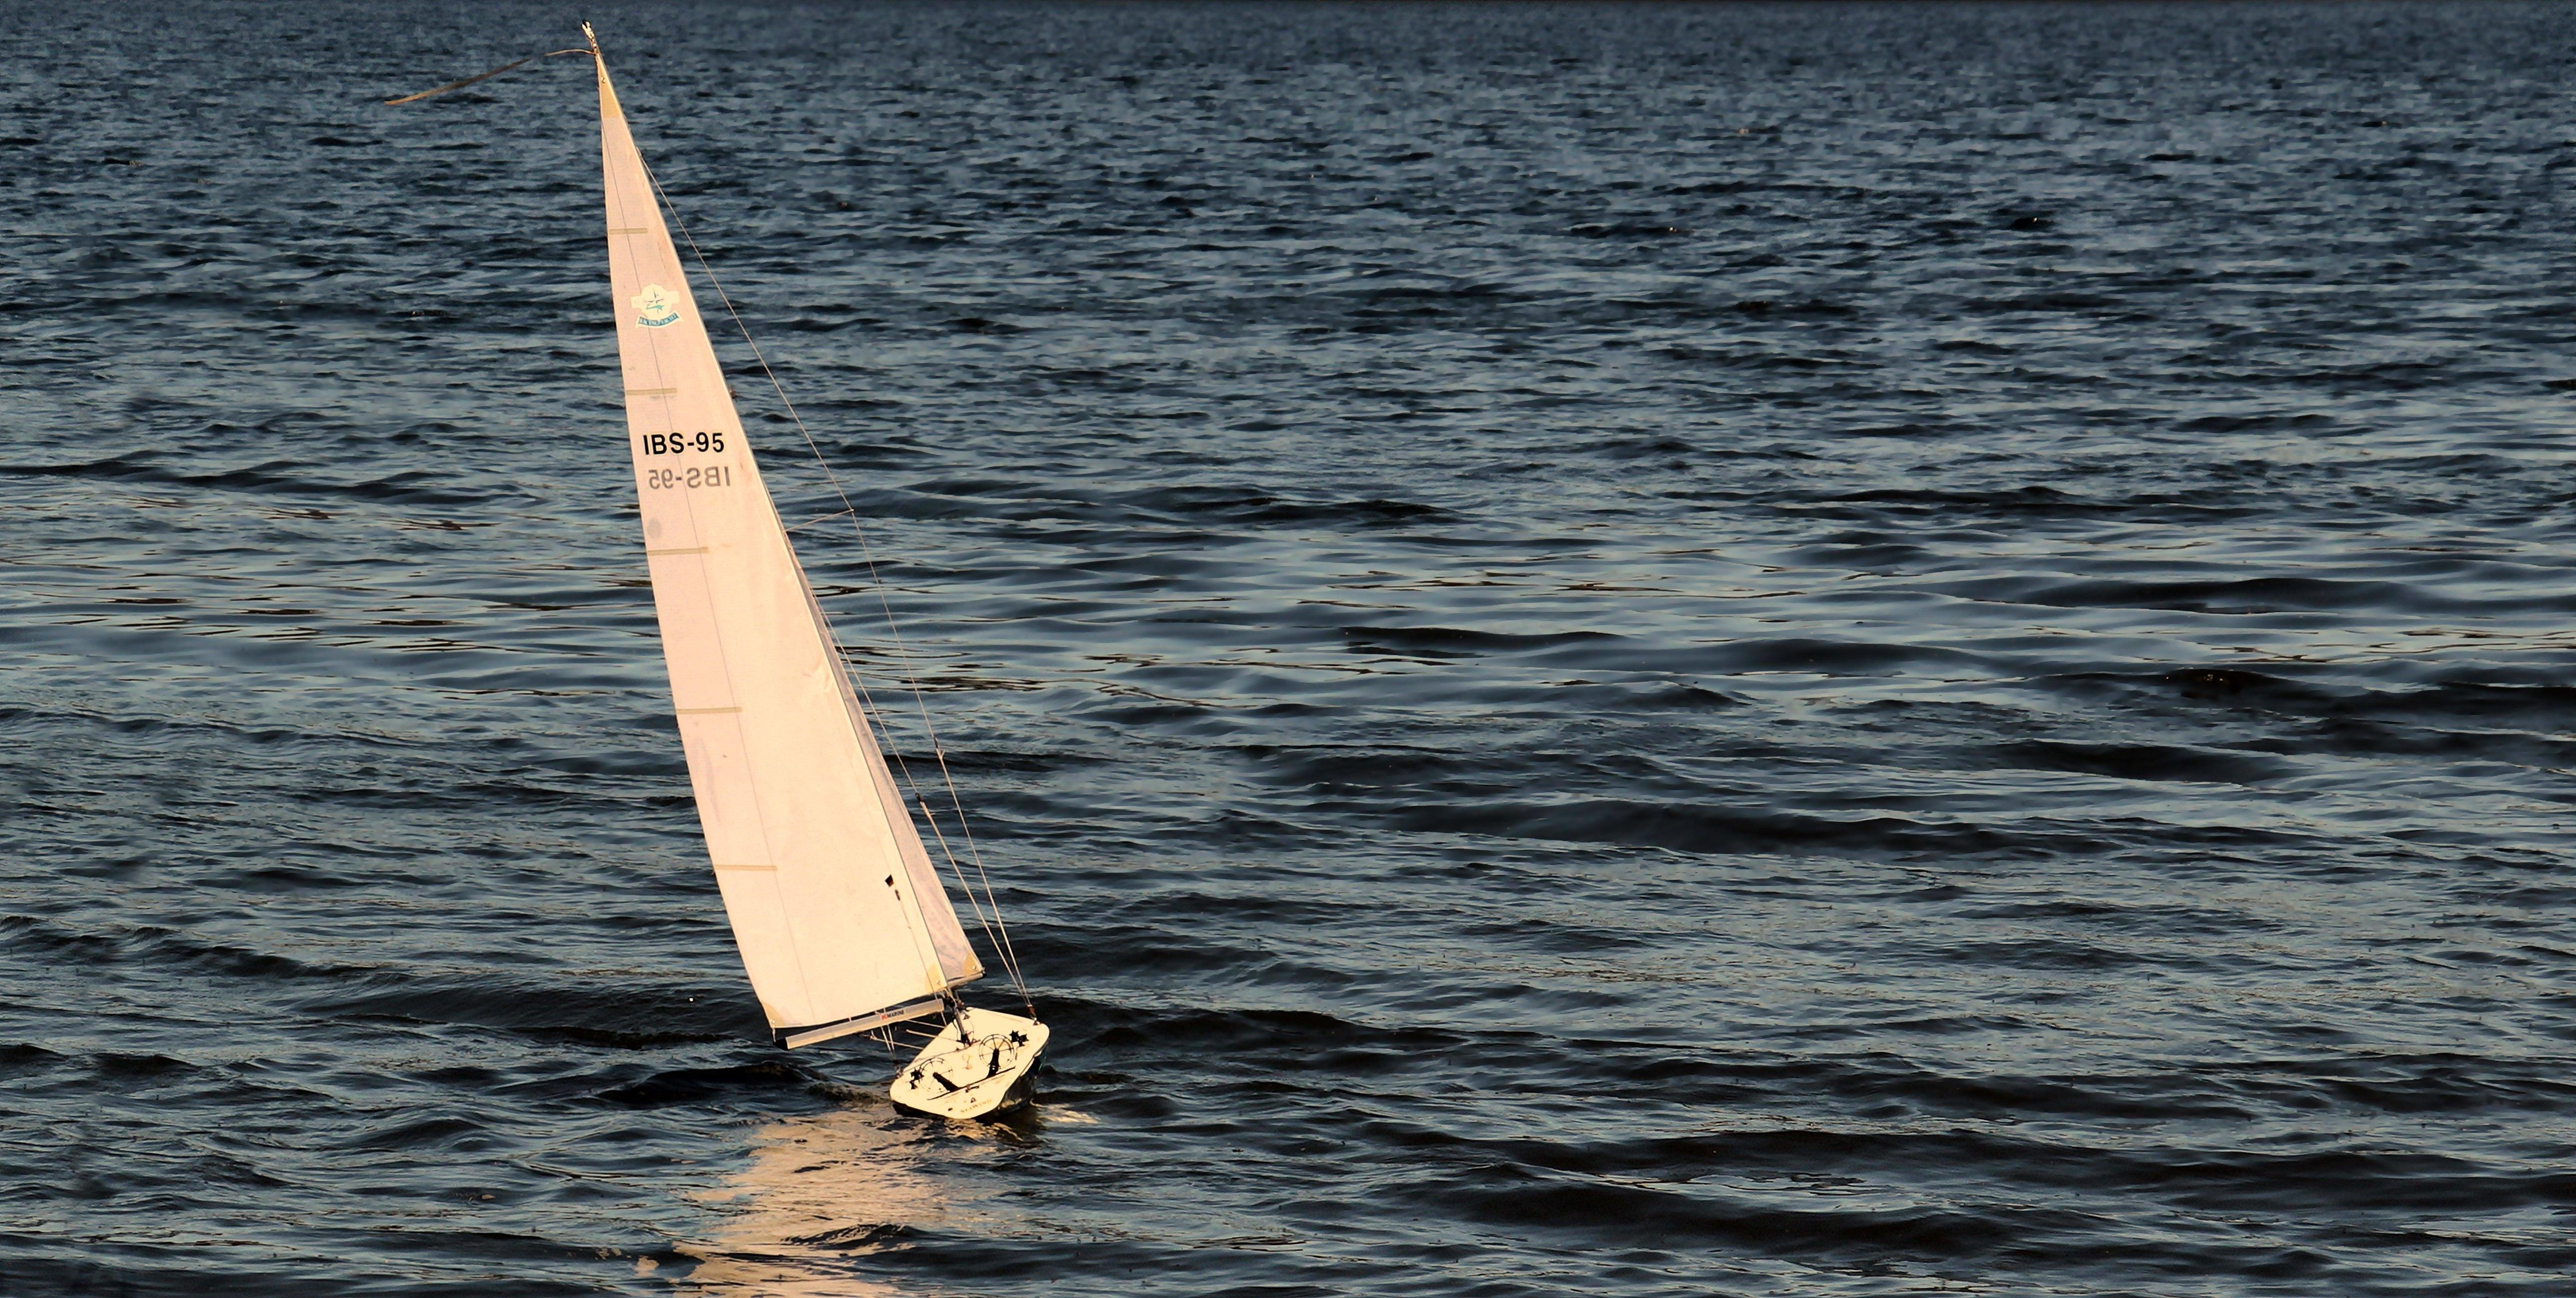fanchuan: (546, 15, 1068, 1146)
